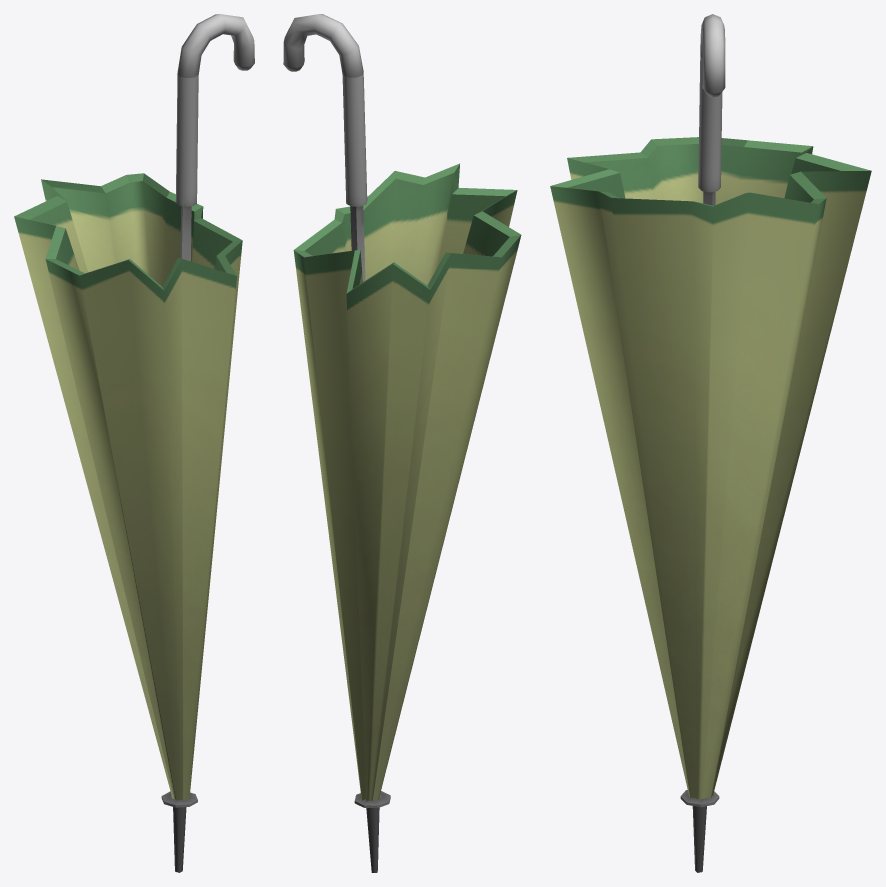
The model's file is Umbrella.FBX.
3 renders of one model, left to right at view 1: azimuth 30°, elevation 25°; view 2: azimuth 150°, elevation 25°; view 3: azimuth 270°, elevation 25°, orthographic. The views are drawn at different scales.
Visible parts, largest first — view 1: Cylinder004; view 2: Cylinder004; view 3: Cylinder004.
Boxes of the visible parts, x1=… form: Cylinder004: x1=14, y1=14, x2=254, y2=872; Cylinder004: x1=283, y1=14, x2=521, y2=872; Cylinder004: x1=550, y1=14, x2=871, y2=872.
Bounding box in the file's own units: 65.46 × 249 × 82.71.
1 material, 1 textured.
